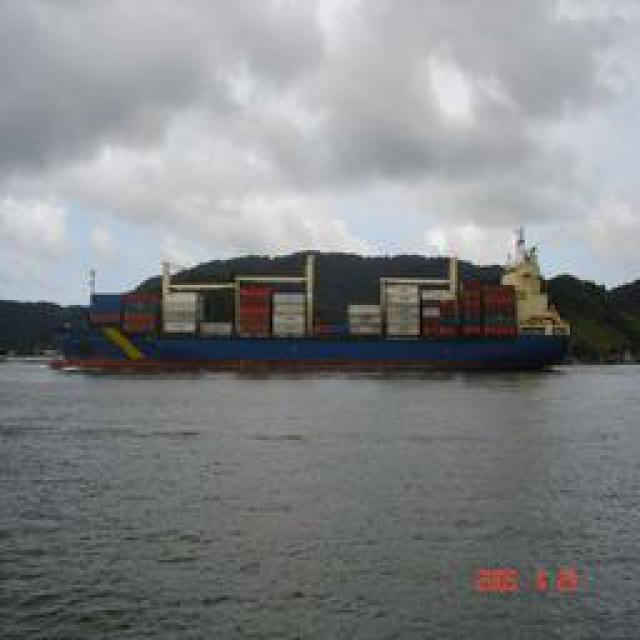Ship: (40, 210, 594, 391)
